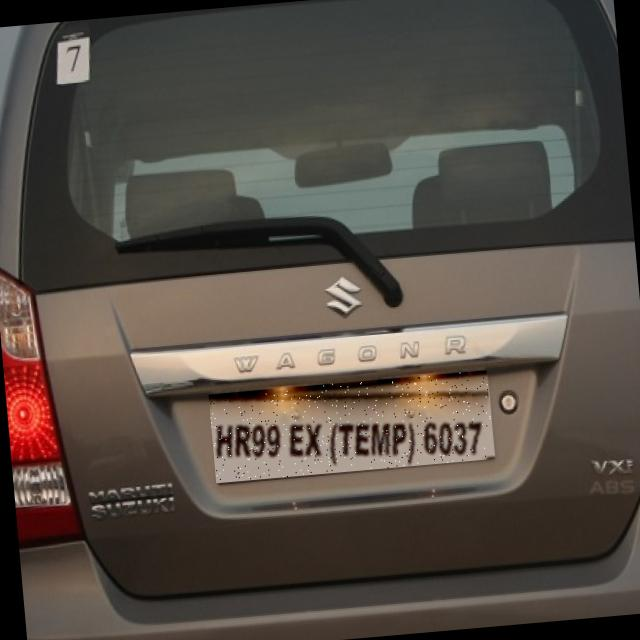Plate: (209, 371, 495, 484)
